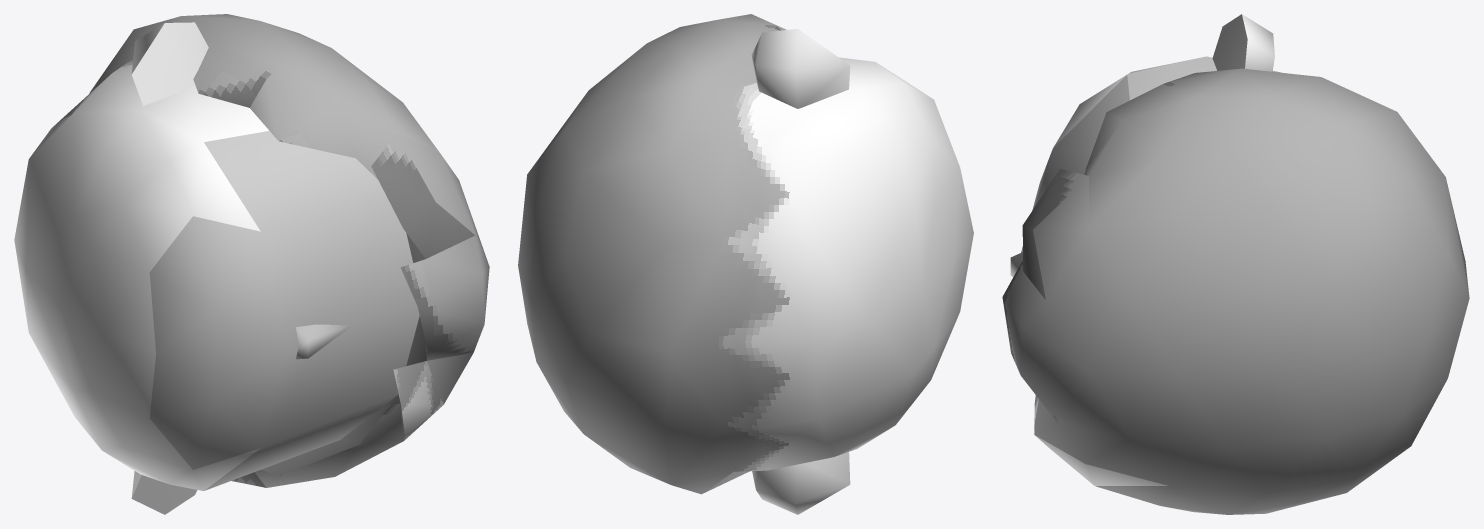
The model's file is girl12a.dae.
3 renders of one model, left to right at view 1: azimuth 30°, elevation 25°; view 2: azimuth 150°, elevation 25°; view 3: azimuth 270°, elevation 25°, orthographic. The views are drawn at different scales.
Visible parts, largest first — view 1: vsn_mesh_0_, vsn_mesh_1_, vsn_mesh_2_; view 2: vsn_mesh_0_; view 3: vsn_mesh_0_, vsn_mesh_1_.
Part boxes in pixels (left/top/right/bottom): vsn_mesh_0_: left=14, top=14, right=489, bottom=514; vsn_mesh_1_: left=204, top=131, right=419, bottom=490; vsn_mesh_2_: left=149, top=216, right=287, bottom=469; vsn_mesh_0_: left=518, top=14, right=973, bottom=514; vsn_mesh_0_: left=1002, top=14, right=1469, bottom=514; vsn_mesh_1_: left=1010, top=75, right=1129, bottom=276.
Size of the model in its own units: 21.29 by 26.71 by 23.51.
